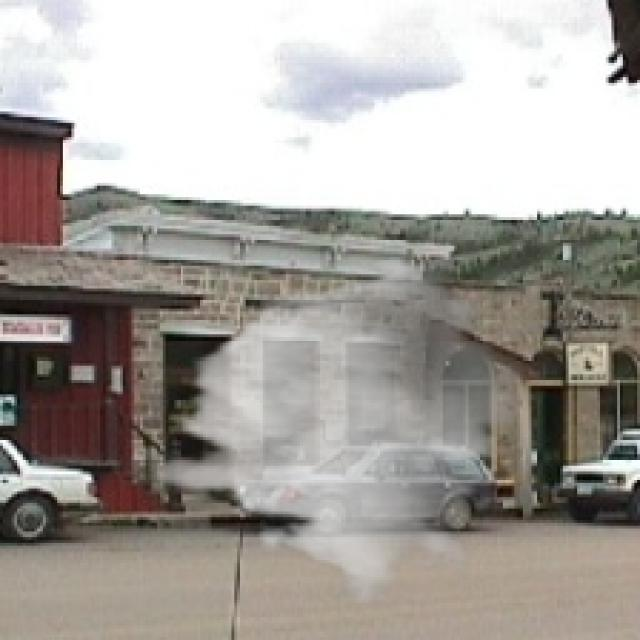smoke: (148, 251, 546, 606)
